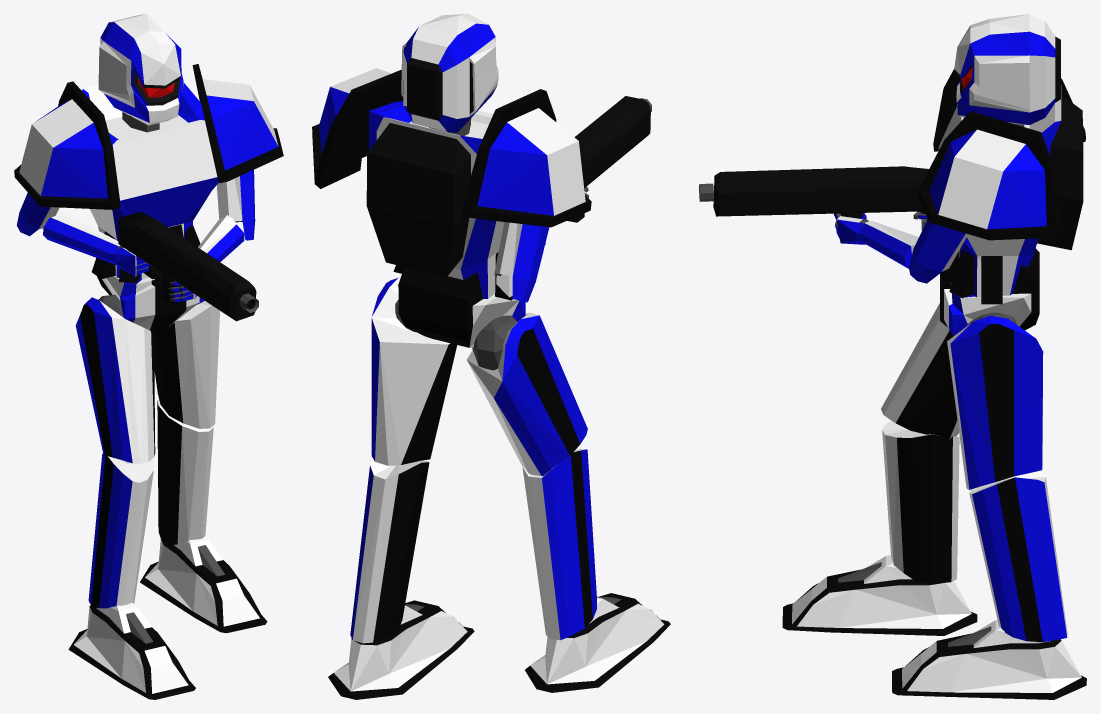
File: robots_000010.obj
3 views of the same model, side by side, from view 1: azimuth 30°, elevation 25°; view 2: azimuth 150°, elevation 25°; view 3: azimuth 270°, elevation 25° (orthographic). The views are drawn at different scales.
Parts seen in each view (by area): view 1: Chest_plate_Cube.004, R_Thigh_Cube.005, Cube.002_Cube.059, Head_base_Cube.022, R_Shin_Cube.007, R_Foot_Cube, R_Foot.002_Cube.035, R_Thigh.002_Cube.027, Cube_Cube.001, R_Shin.002_Cube.029, Cube_Cube.021, Pelvis_Cube.006 (+5 smaller); view 2: Chest_plate_Cube.004, Cube.002_Cube.059, R_Thigh.002_Cube.027, R_Thigh_Cube.005, R_Shin_Cube.007, R_Shin.002_Cube.029, Head_base_Cube.022, R_Foot_Cube, R_Foot.002_Cube.035, Pelvis_Cube.006, Cube_Cube.021, Cube_Cube.001 (+2 smaller); view 3: Cube_Cube.021, R_Thigh.002_Cube.027, R_Shin.002_Cube.029, R_Shin_Cube.007, R_Foot.002_Cube.035, R_Foot_Cube, Head_base_Cube.022, Cube_Cube.001, Chest_plate_Cube.004, R_Thigh_Cube.005, Pelvis_Cube.006, L_Arm_Cube.014 (+3 smaller).
Part boxes in pixels (x1,y1,x2,y2): Chest_plate_Cube.004: (82, 83, 218, 283); R_Thigh_Cube.005: (75, 297, 155, 463); Cube.002_Cube.059: (14, 81, 120, 209); Head_base_Cube.022: (98, 14, 183, 125); R_Shin_Cube.007: (88, 453, 154, 608); R_Foot_Cube: (68, 602, 195, 699); R_Foot.002_Cube.035: (140, 536, 267, 633); R_Thigh.002_Cube.027: (151, 301, 219, 428); Cube_Cube.001: (118, 212, 258, 321); R_Shin.002_Cube.029: (157, 400, 213, 545); Cube_Cube.021: (192, 64, 283, 183); Pelvis_Cube.006: (97, 276, 204, 331); Chest_plate_Cube.004: (366, 101, 512, 300); Cube.002_Cube.059: (461, 89, 591, 227); R_Thigh.002_Cube.027: (371, 277, 457, 465); R_Thigh_Cube.005: (467, 312, 587, 476); R_Shin_Cube.007: (522, 448, 596, 640); R_Shin.002_Cube.029: (350, 457, 429, 643); Head_base_Cube.022: (401, 14, 498, 132); R_Foot_Cube: (525, 593, 670, 692); R_Foot.002_Cube.035: (328, 600, 474, 699); Pelvis_Cube.006: (397, 267, 525, 347); Cube_Cube.021: (312, 68, 403, 188); Cube_Cube.001: (567, 96, 651, 222); Cube_Cube.021: (917, 111, 1060, 240); R_Thigh.002_Cube.027: (947, 315, 1043, 489); R_Shin.002_Cube.029: (969, 470, 1067, 641); R_Shin_Cube.007: (882, 420, 959, 583); R_Foot.002_Cube.035: (892, 620, 1086, 699); R_Foot_Cube: (782, 555, 977, 635); Head_base_Cube.022: (954, 14, 1060, 124); Cube_Cube.001: (699, 166, 928, 220); Chest_plate_Cube.004: (938, 85, 1083, 304); R_Thigh_Cube.005: (881, 303, 1026, 439); Pelvis_Cube.006: (940, 248, 1039, 335); L_Arm_Cube.014: (909, 219, 968, 283).
Bounding box in the file's own units: 1.32 × 3.03 × 1.69.
